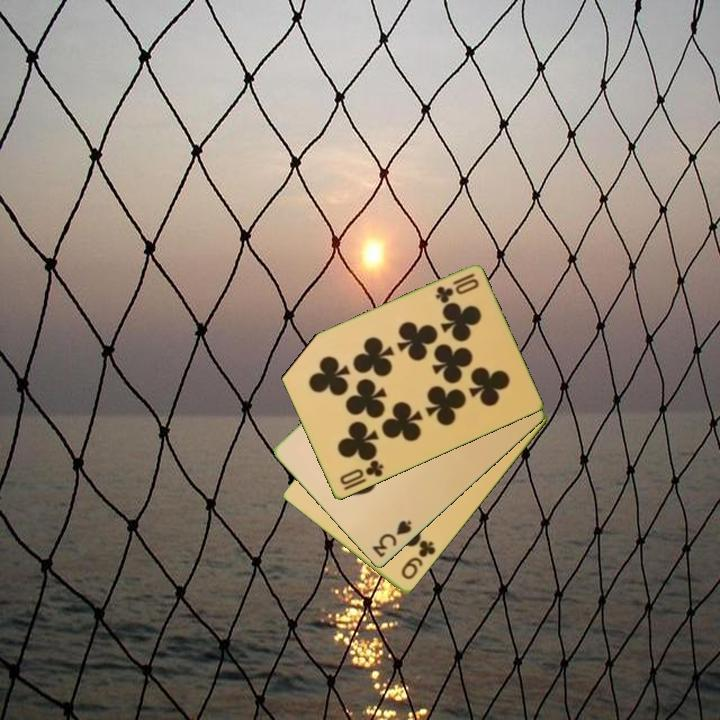10c: (432, 270, 482, 306), (336, 456, 386, 488)
3s: (369, 517, 415, 561)
9c: (398, 537, 439, 583)
